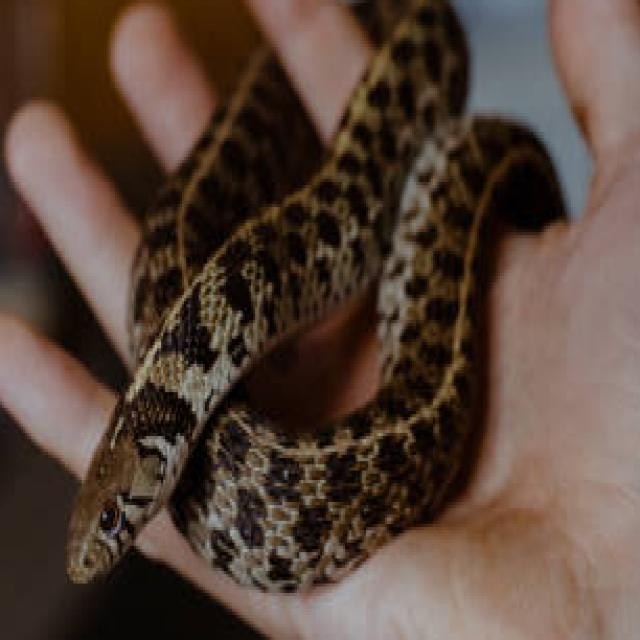Snake: (63, 0, 567, 596)
